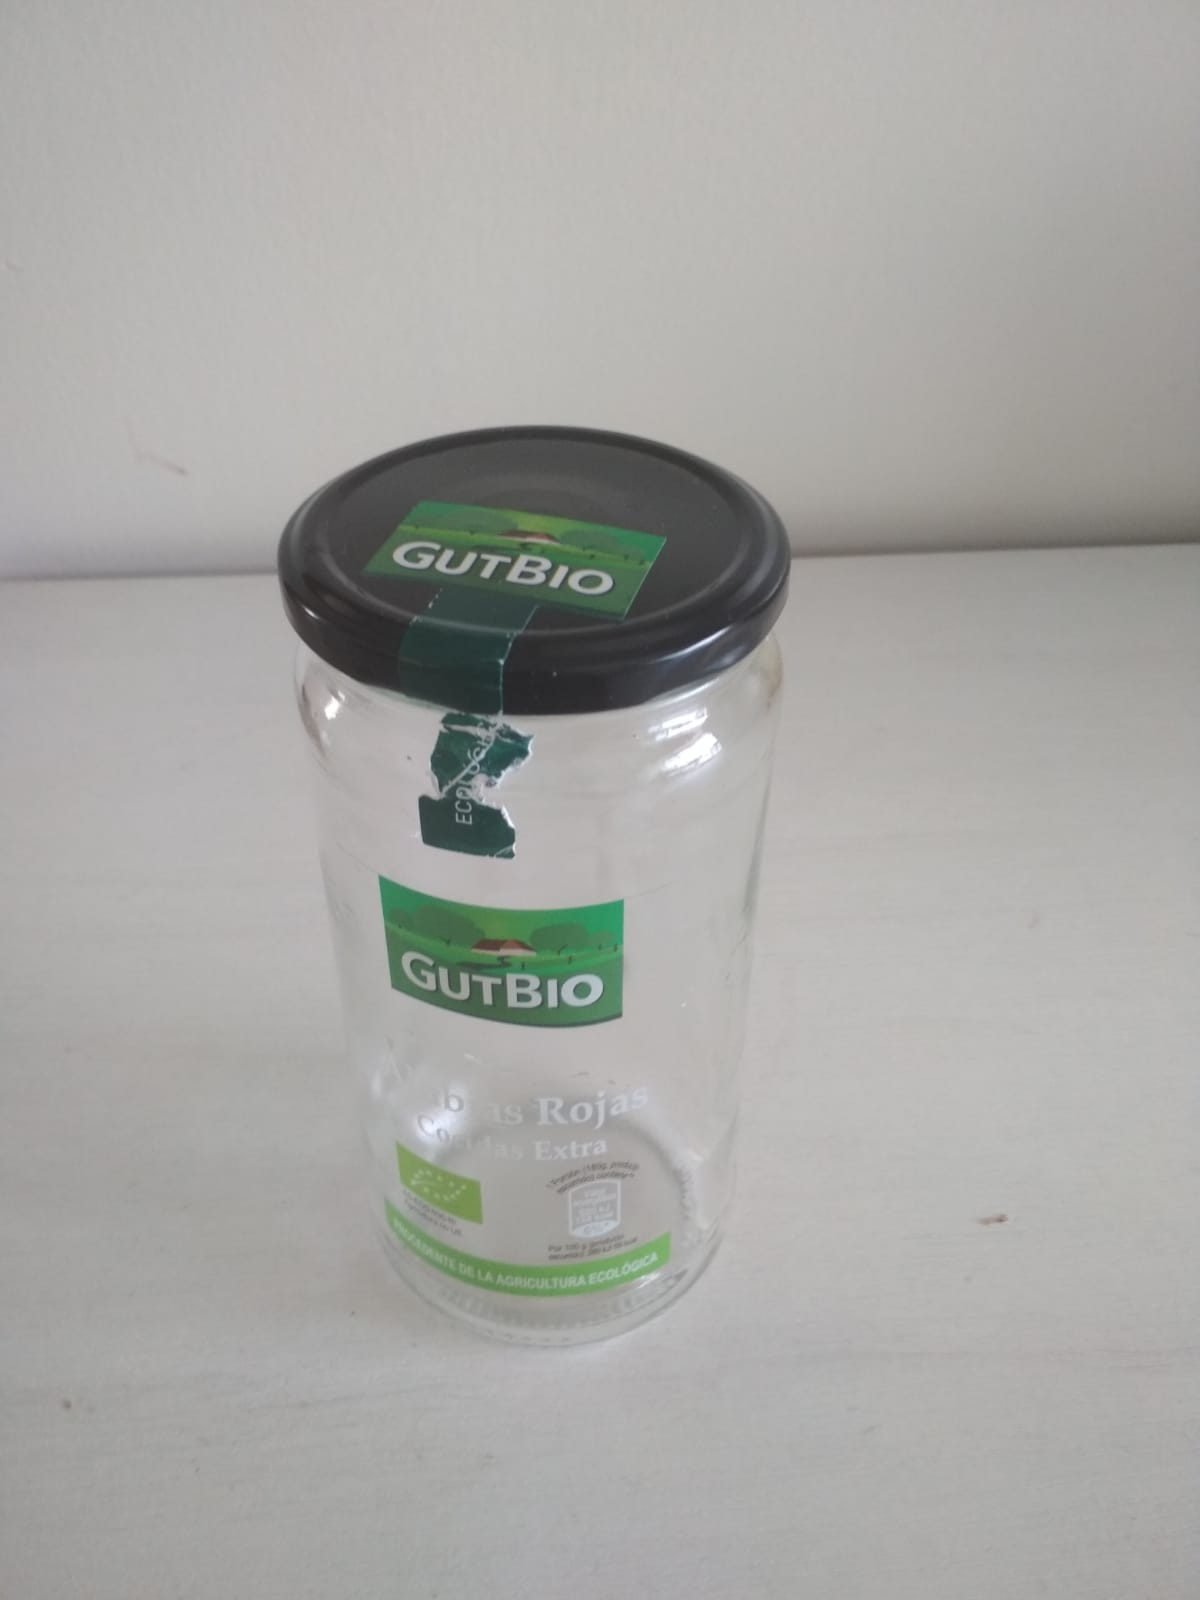pote cristal: (271, 420, 808, 1353)
